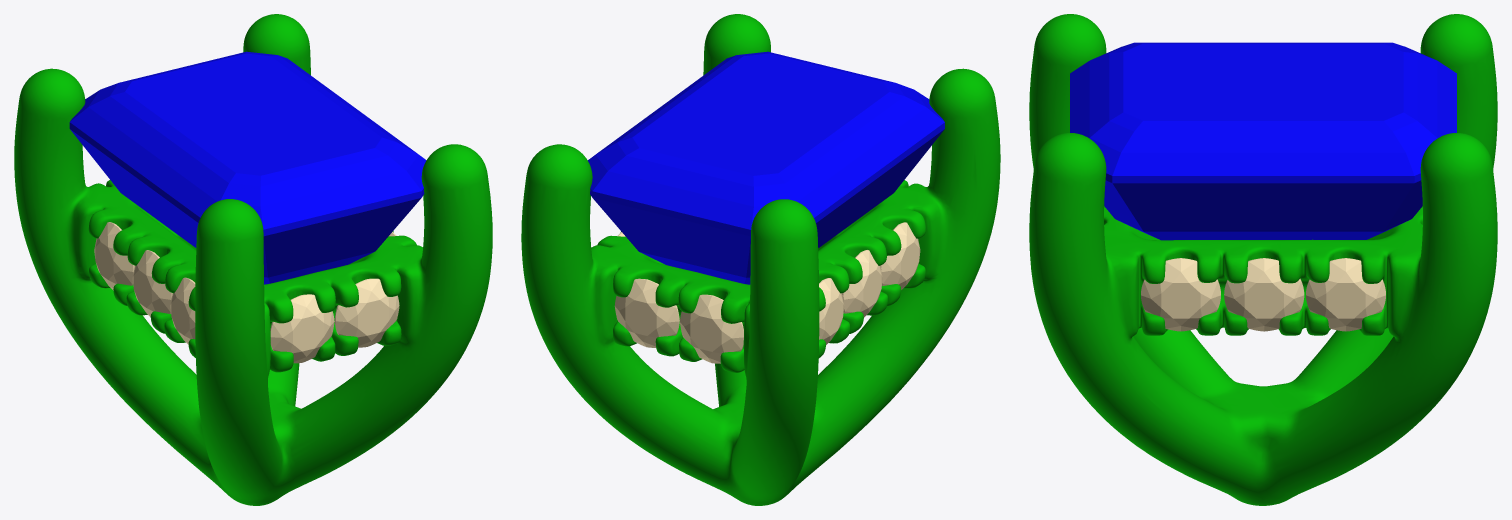
The picture shows the model from 3 angles, left to right: view 1: azimuth 30°, elevation 25°; view 2: azimuth 150°, elevation 25°; view 3: azimuth 270°, elevation 25°; orthographic projection. The views are drawn at different scales.
Visible parts, largest first — view 1: Metal01, Diamond_Emerald, Diamond_Round.009, Diamond_Round.008, Diamond_Round.004, Diamond_Round.003, Diamond_Round.002; view 2: Metal01, Diamond_Emerald, Diamond_Round.001, Diamond_Round, Diamond_Round.003, Diamond_Round.002, Diamond_Round.004; view 3: Metal01, Diamond_Emerald, Diamond_Round.007, Diamond_Round.005, Diamond_Round.006.
Boxes of the visible parts, box(x1,y1,x2,y2) form: Metal01: box(14, 14, 492, 505); Diamond_Emerald: box(69, 51, 426, 284); Diamond_Round.009: box(334, 278, 399, 347); Diamond_Round.008: box(270, 294, 334, 363); Diamond_Round.004: box(94, 222, 134, 290); Diamond_Round.003: box(132, 250, 172, 316); Diamond_Round.002: box(170, 277, 195, 344); Metal01: box(521, 14, 1000, 505); Diamond_Emerald: box(588, 51, 944, 284); Diamond_Round.001: box(614, 278, 679, 347); Diamond_Round: box(680, 294, 743, 363); Diamond_Round.003: box(842, 250, 882, 317); Diamond_Round.002: box(880, 222, 920, 289); Diamond_Round.004: box(819, 278, 844, 344); Metal01: box(1029, 14, 1497, 505); Diamond_Emerald: box(1070, 42, 1456, 240); Diamond_Round.007: box(1306, 258, 1385, 331); Diamond_Round.005: box(1141, 258, 1220, 331); Diamond_Round.006: box(1224, 258, 1304, 331).
Bounding box in the file's own units: 4.96 × 6.41 × 6.43.
